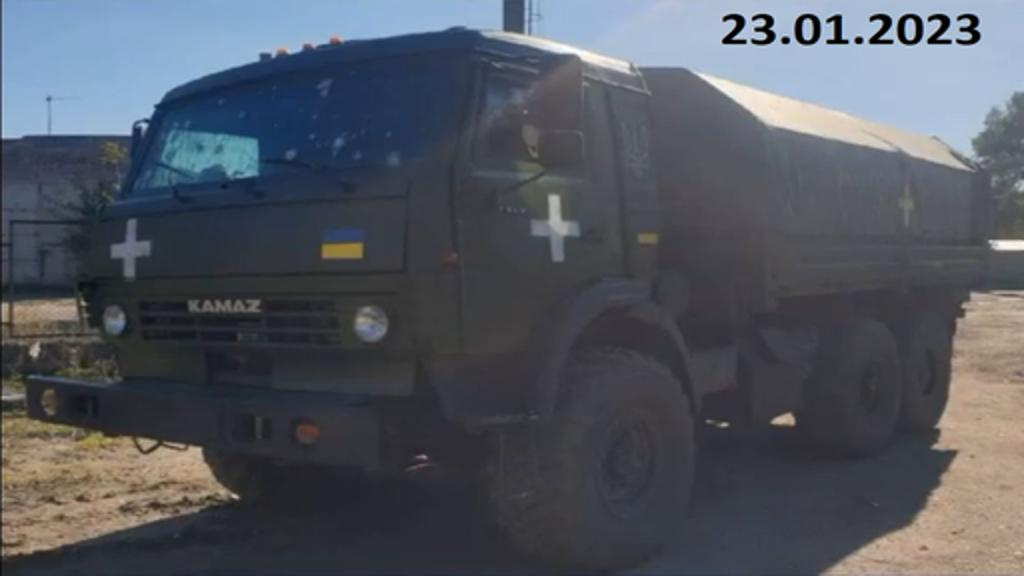TRUCK: (28, 24, 992, 572)
